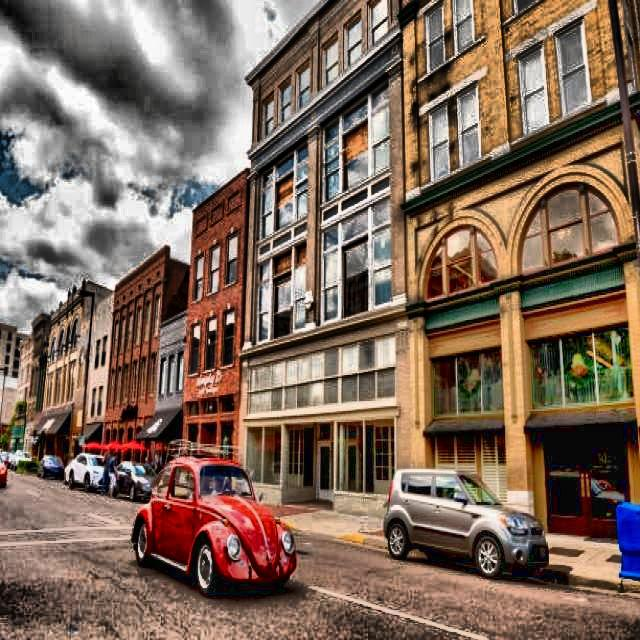carro: (130, 458, 296, 584), (386, 456, 552, 580)
